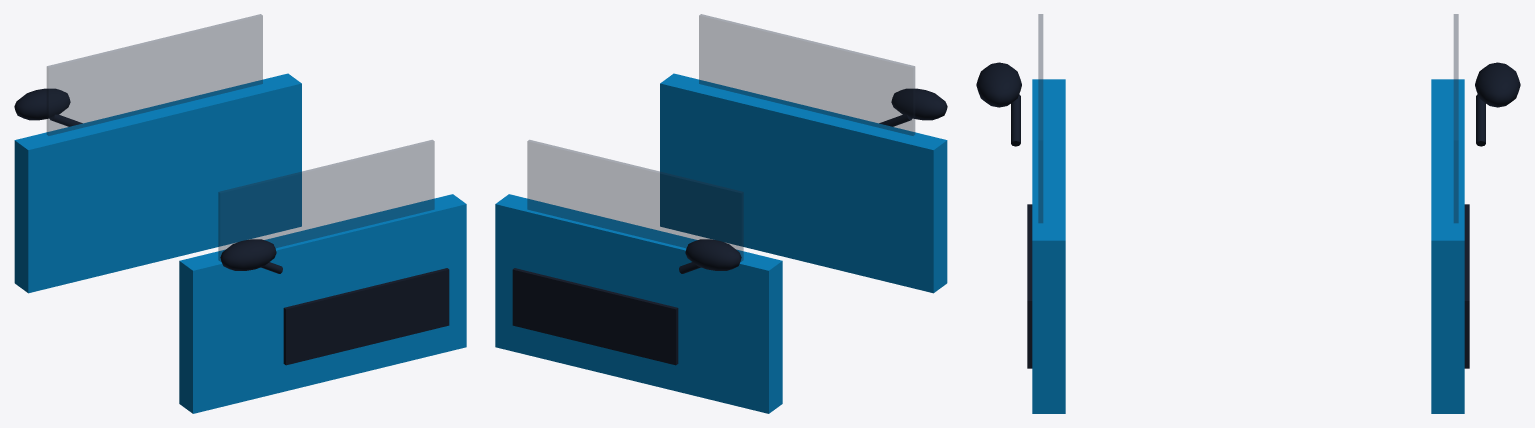
Rendered from doors.glb.
The picture shows the model from 3 angles, left to right: view 1: azimuth 30°, elevation 25°; view 2: azimuth 150°, elevation 25°; view 3: azimuth 270°, elevation 25°; orthographic projection. The views are drawn at different scales.
Visible parts, largest first — view 1: Doors_Assembly; view 2: Doors_Assembly; view 3: Doors_Assembly.
Boxes of the visible parts, left/top/right/bottom form: Doors_Assembly: left=14, top=14, right=466, bottom=413; Doors_Assembly: left=495, top=14, right=947, bottom=413; Doors_Assembly: left=976, top=14, right=1520, bottom=413.
Bounding box in the file's own units: 0.92 × 0.68 × 1.31.
